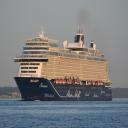cruises: (14, 29, 114, 104)
